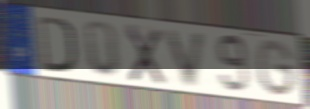0: (83, 19, 122, 80)
9: (217, 33, 252, 96)
D: (35, 13, 78, 75)
G: (254, 38, 298, 99)
V: (164, 28, 210, 90)
X: (124, 22, 166, 87)
